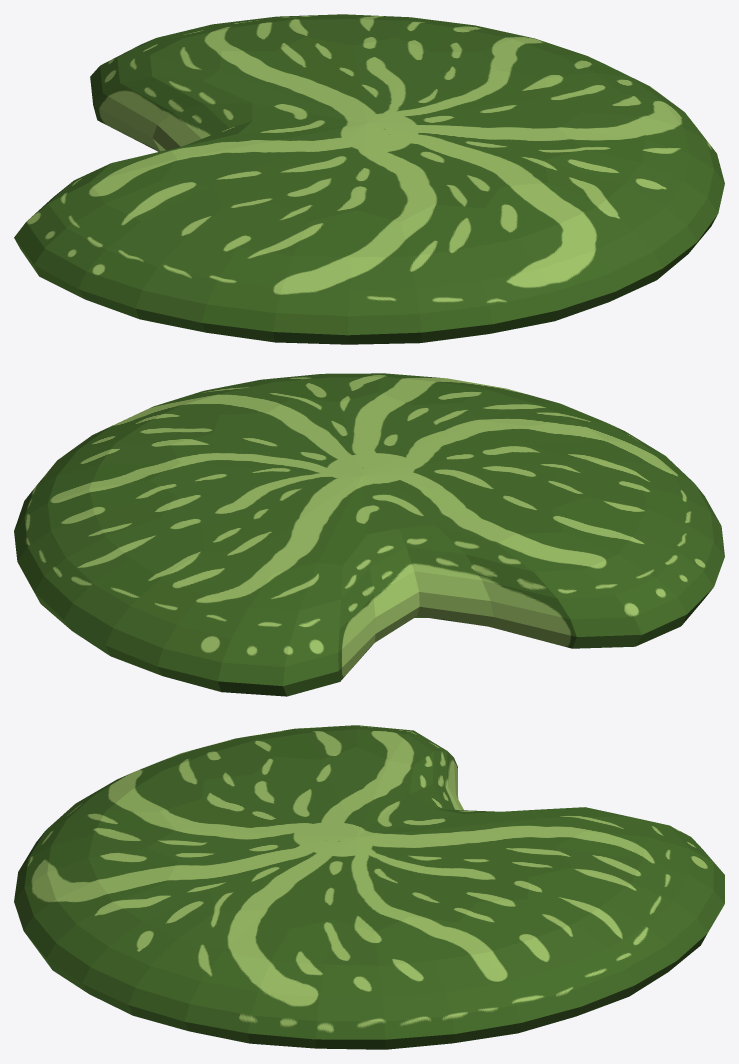
Rendered from nenufares 2.fbx.
3 views of the same model, one above another, from view 1: azimuth 30°, elevation 25°; view 2: azimuth 150°, elevation 25°; view 3: azimuth 270°, elevation 25° (orthographic). The views are drawn at different scales.
Parts seen in each view (by area): view 1: nenufar 2; view 2: nenufar 2; view 3: nenufar 2.
Part boxes in pixels (<box>): nenufar 2: <box>14,14,724,344</box>; nenufar 2: <box>14,373,724,696</box>; nenufar 2: <box>14,725,724,1049</box>.
Size of the model in its own units: 408 by 53.51 by 407.
1 material, 1 textured.
